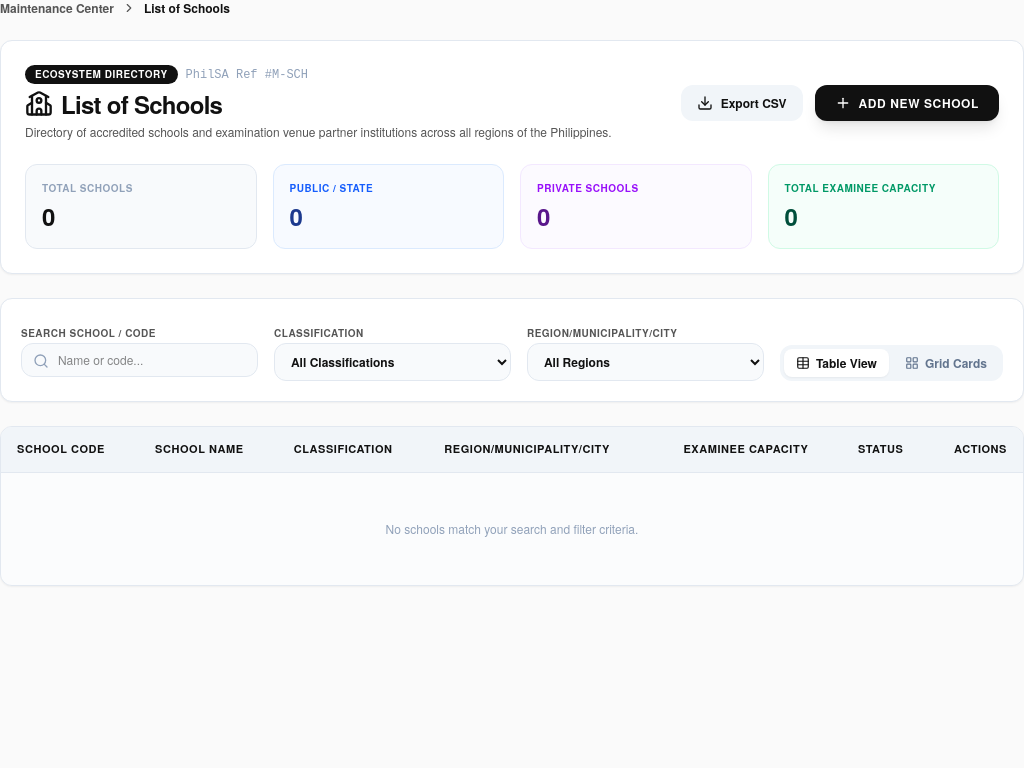
Test: SchoolsListMaintenance › keeps the modal open and surfaces a backend validation error
Expected: the text "No schools match your search and filter criteria." is shown, [1,472,1023,584]
Click the button "Add New School": click(907, 102) [814,84,999,120]
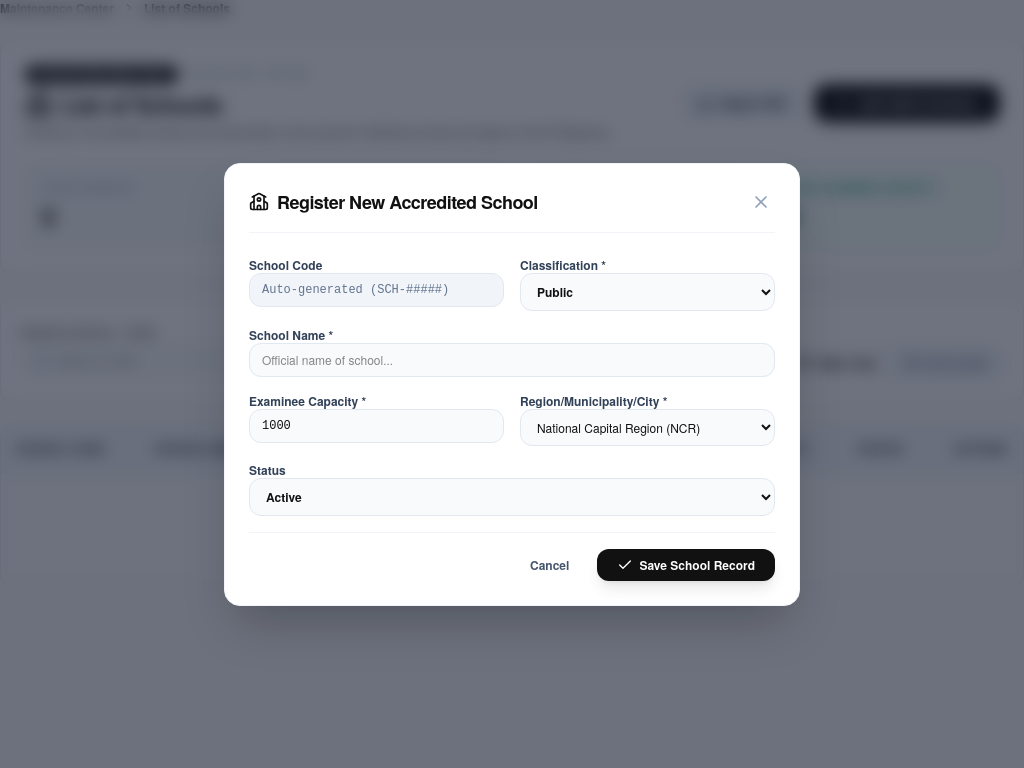
In the field with placeholder "Official name of school...": (512, 360) [249,342,775,376], type "Duplicate School"
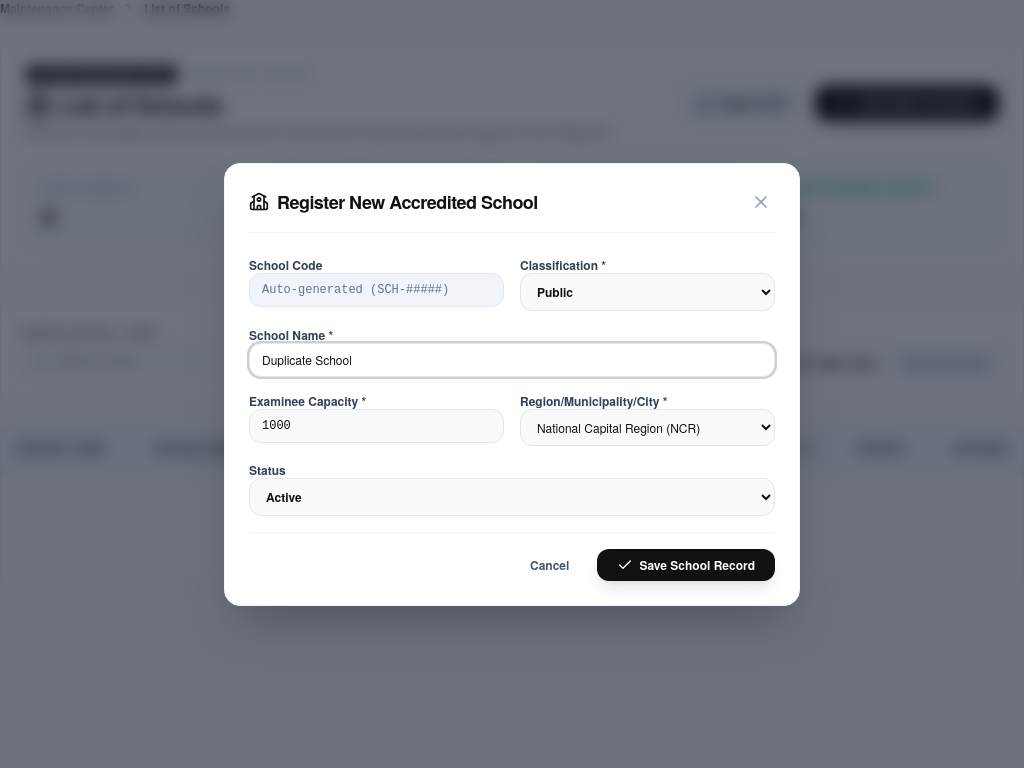
Click the button "Save School Record": click(686, 564) [597,548,775,580]
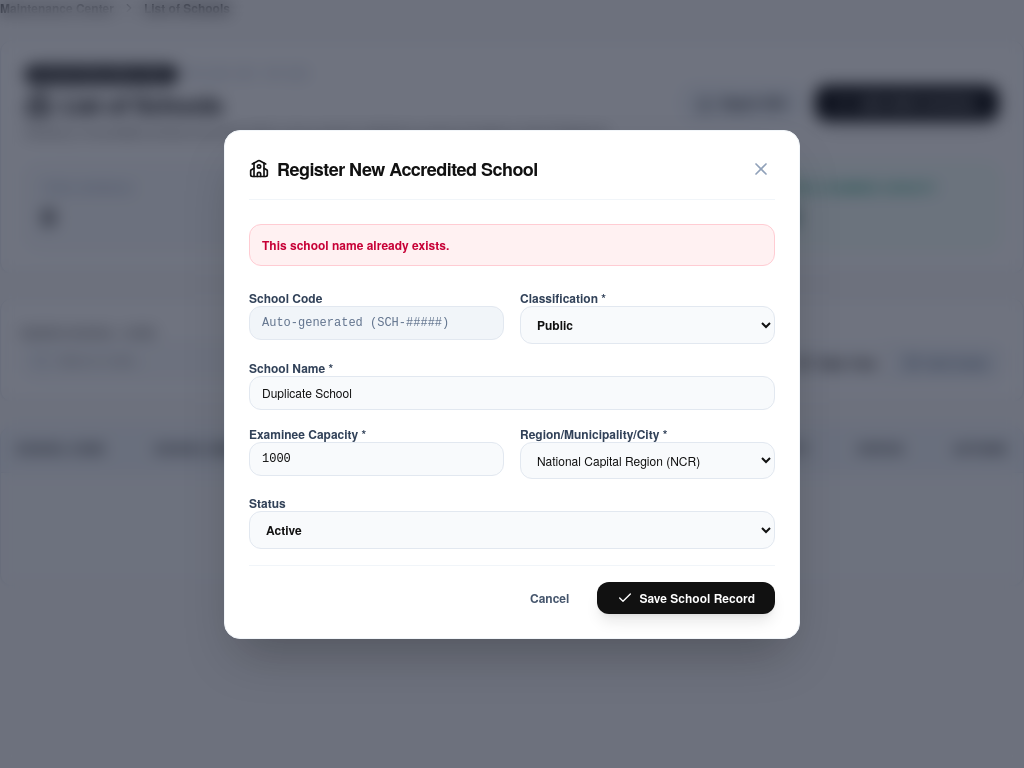
Expected: the heading "Register New Accredited School" is shown, [249,154,538,182]
Expected: the text "This school name already exists." is shown, [249,224,775,266]
